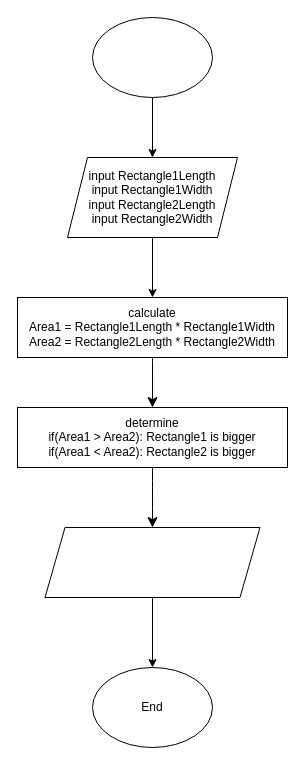
This 305x765 diagram has some shape labels left out. Each missing label, with the box of its shape:
output "Rectangle 1 is bigger" -or- "Rectangle 2 is bigger": (44, 526, 260, 598)
Start: (92, 16, 212, 98)
